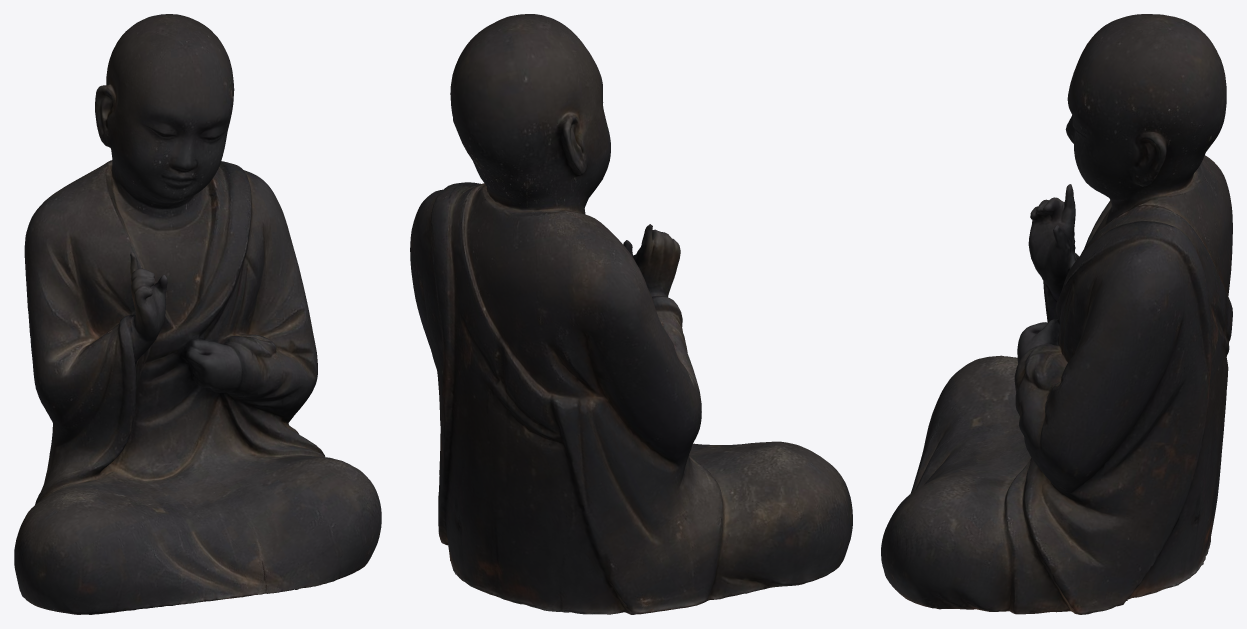
Rendered from teacher.glb.
3 views of the same model, side by side, from view 1: azimuth 30°, elevation 25°; view 2: azimuth 150°, elevation 25°; view 3: azimuth 270°, elevation 25° (orthographic). The views are drawn at different scales.
Parts seen in each view (by area): view 1: Object_2; view 2: Object_2; view 3: Object_2.
Part boxes in pixels (left/top/right/bottom): Object_2: left=14, top=14, right=381, bottom=614; Object_2: left=410, top=14, right=852, bottom=614; Object_2: left=881, top=14, right=1232, bottom=614.
Bounding box in the file's own units: 0.2414 × 0.3459 × 0.2038.
Materials: 1 (1 with a texture image).
